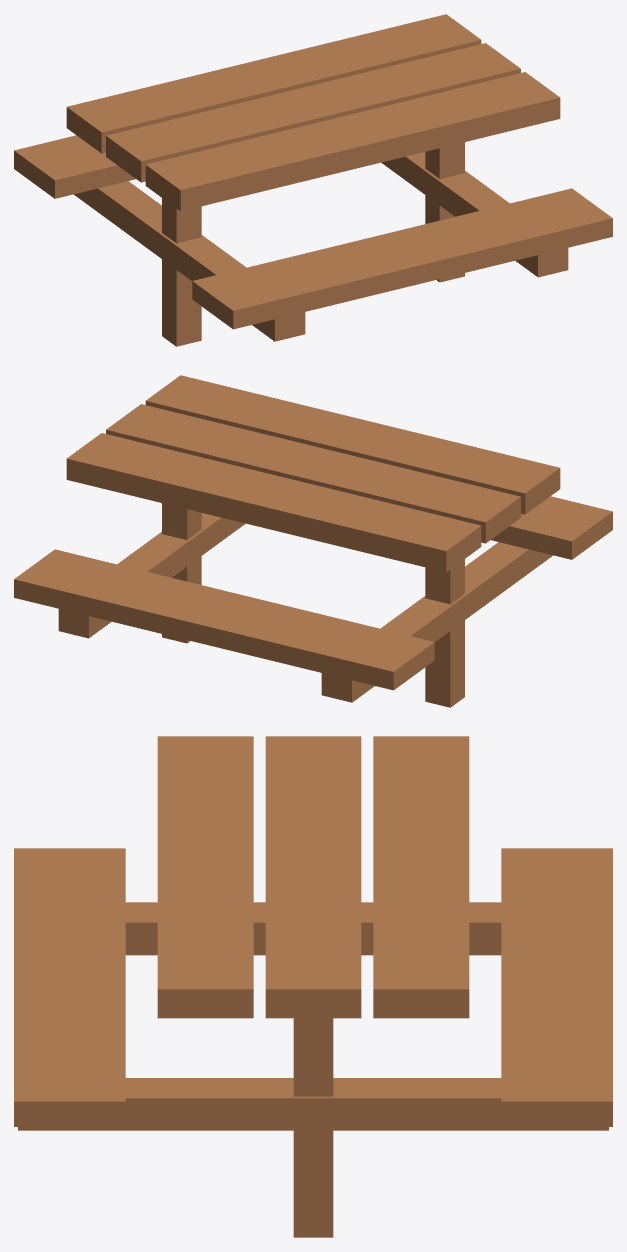
Rendered from turning-seasons-picnic-table-07bedd1a__2121.glb.
3 renders of one model, top to bottom at view 1: azimuth 30°, elevation 25°; view 2: azimuth 150°, elevation 25°; view 3: azimuth 270°, elevation 25°, orthographic. The views are drawn at different scales.
Visible parts, largest first — view 1: picnic-table; view 2: picnic-table; view 3: picnic-table.
Boxes of the visible parts, x1,y1,x2,y2 form: picnic-table: (14,14,612,346); picnic-table: (14,375,612,707); picnic-table: (14,736,612,1237).
Size of the model in its own units: 1.5 by 0.7701 by 1.5.
